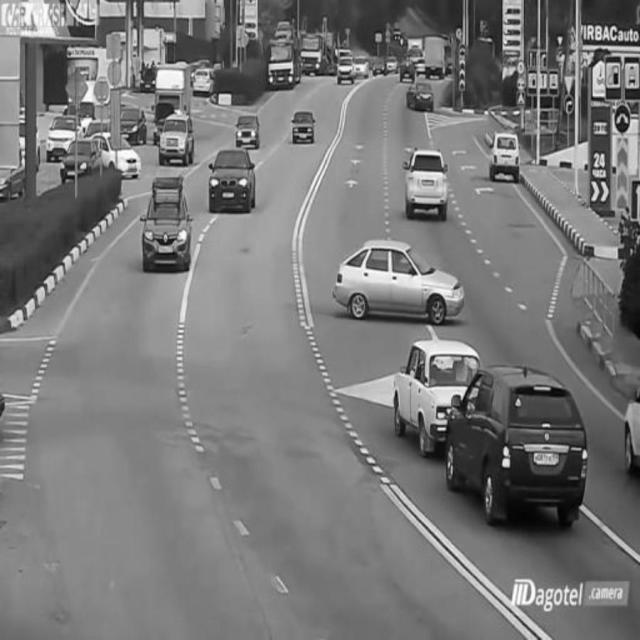vehicle: (461, 361, 587, 538), (337, 235, 465, 321), (393, 335, 463, 455), (142, 184, 197, 270), (401, 144, 452, 217), (211, 141, 256, 217), (99, 126, 145, 178), (157, 109, 199, 164), (263, 34, 299, 91), (62, 130, 99, 181), (490, 130, 522, 185), (45, 105, 73, 162), (229, 109, 266, 151), (423, 32, 457, 77), (290, 106, 320, 148), (404, 78, 438, 110), (336, 51, 360, 87), (191, 66, 218, 96)
